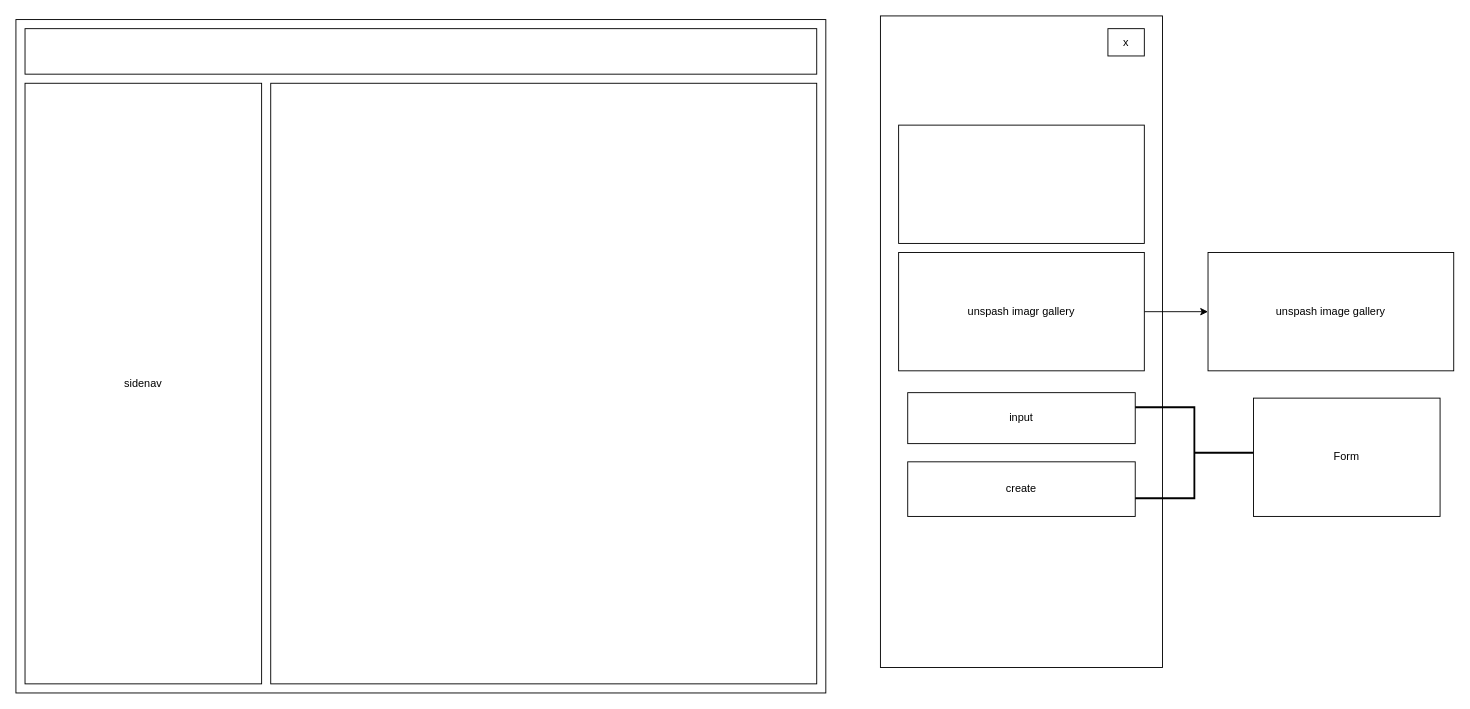
This 1470x709 diagram has some shape labels left out. The box of each missing label's shape, as (x1, y1, x2, y2) in pixels:
boardsList: (270, 82, 817, 684)
dashboard nav: (24, 28, 817, 74)
image: (898, 124, 1144, 243)
